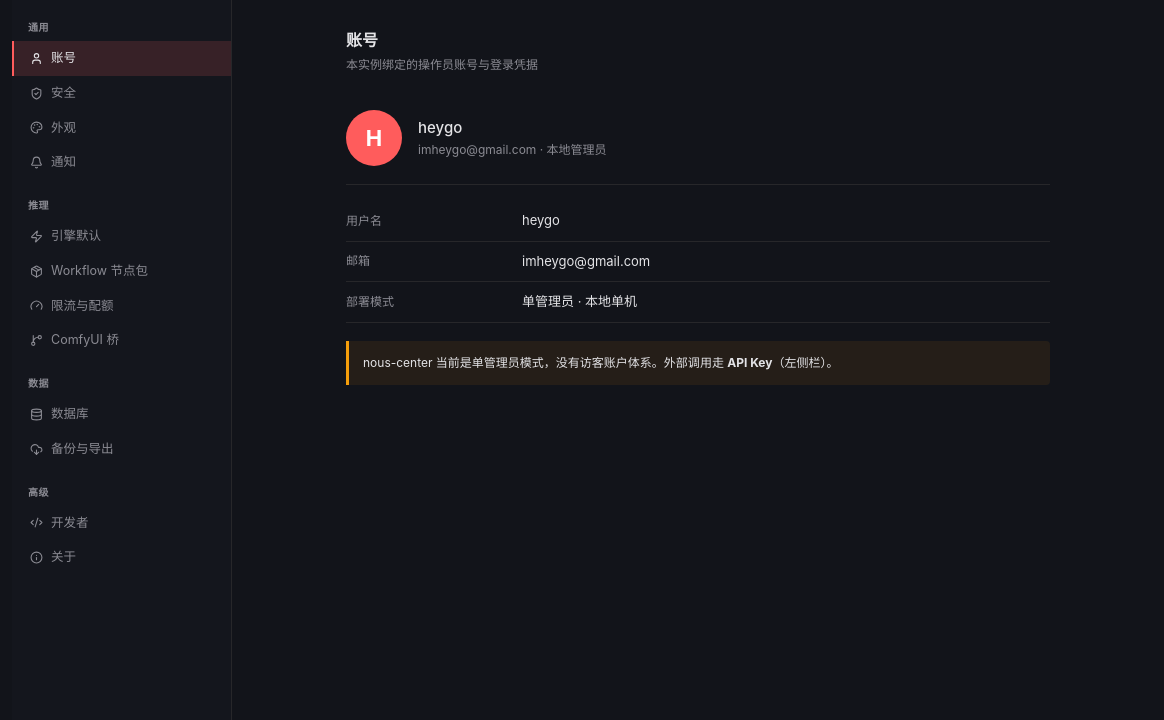
Test: SettingsOverlay sub-nav (m16 alignment) › switches to 引擎默认 sub-page (server-bound KV form)
The width and height of the screenshot is (1164, 720).
Click the button "引擎默认".
click(122, 236)  # box [12, 219, 231, 254]
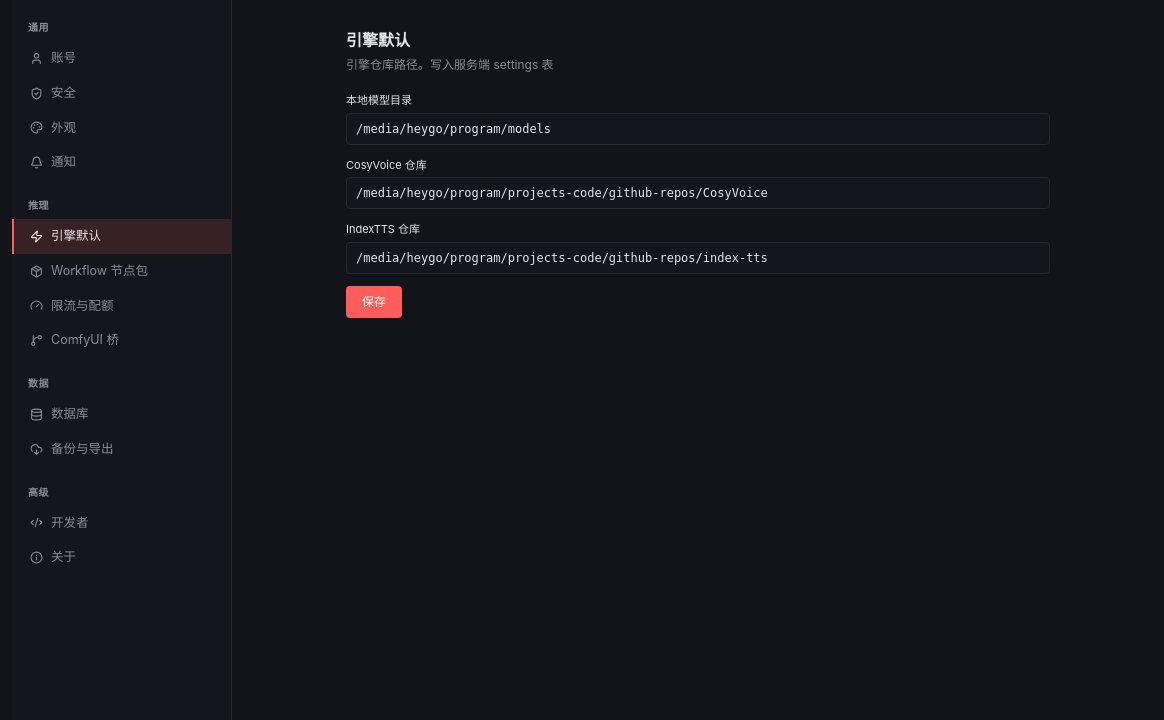
Now the text "本地模型目录" is shown, box [346, 93, 412, 107]
Now the text "IndexTTS 仓库" is shown, box [346, 222, 420, 236]
